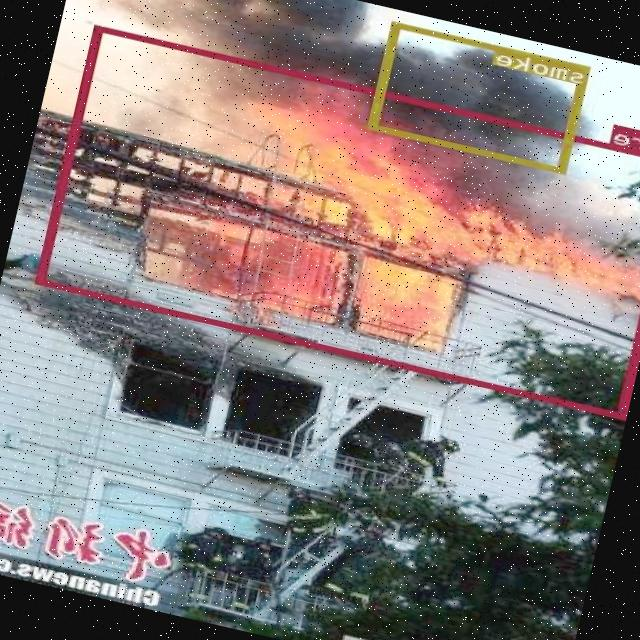fire: (38, 24, 640, 418)
smoke: (370, 20, 592, 174)
